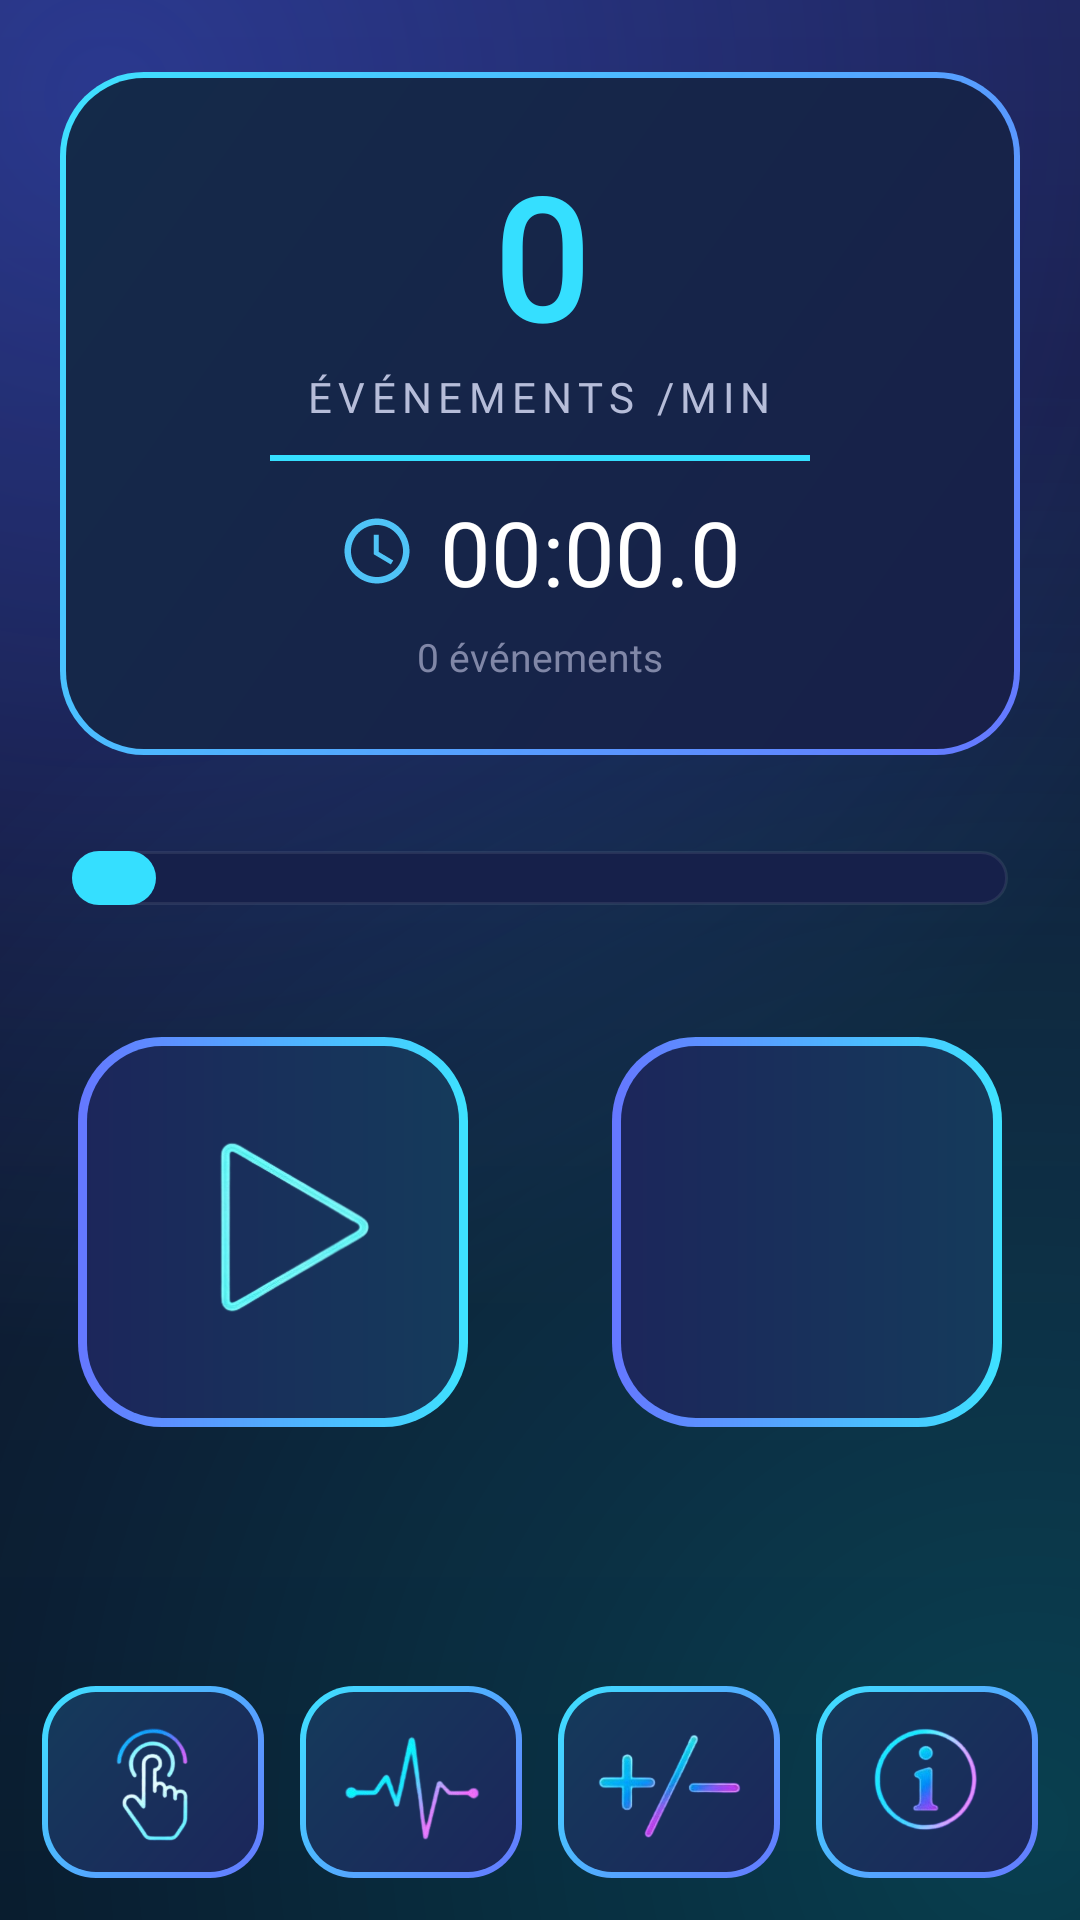

Icon bounding boxes for this 1080px x 1920px phone screenshot, format [x1=x1, y1=y1, x2=x2, y2=y2]:
Calculs: [x1=558, y1=1686, x2=780, y2=1878]
clock: [x1=344, y1=518, x2=410, y2=584]
Compteur: [x1=42, y1=1686, x2=264, y2=1878]
Info: [x1=816, y1=1686, x2=1038, y2=1878]
